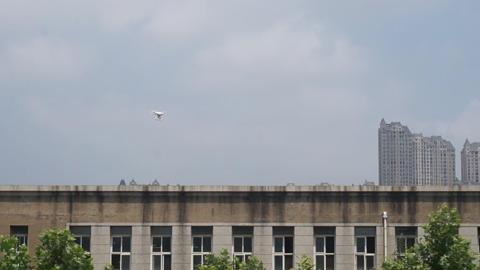UAV: (150, 110, 168, 120)
